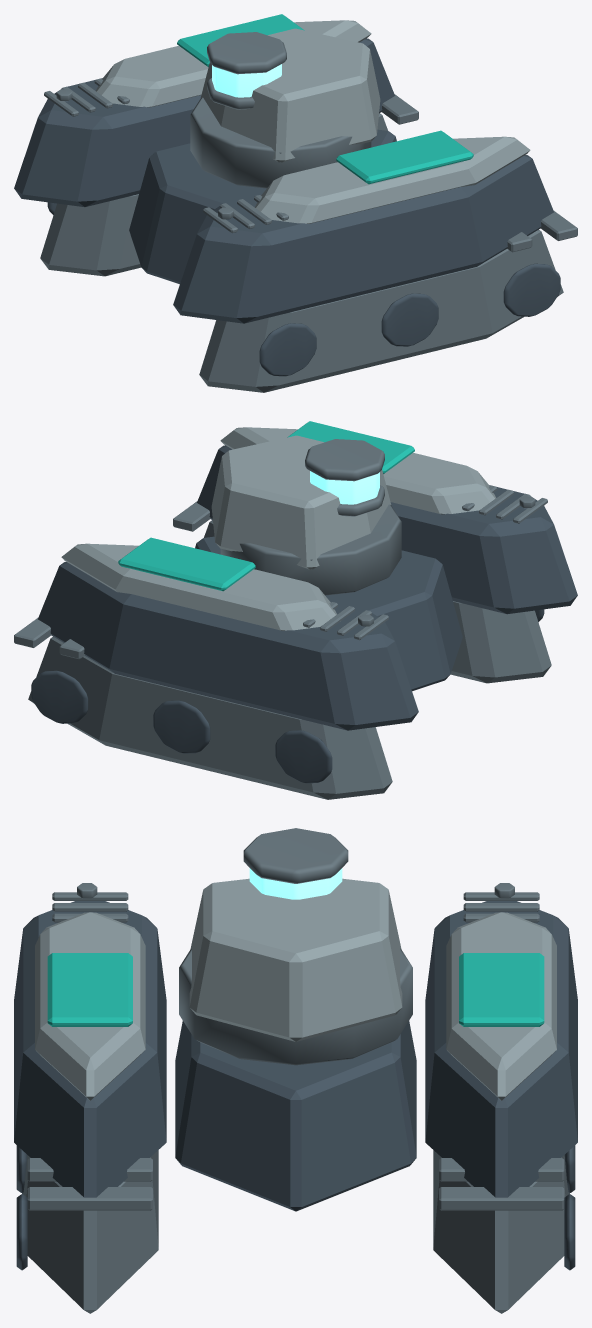
File: SM_Anvil_Body.fbx
3 renders of one model, top to bottom at view 1: azimuth 30°, elevation 25°; view 2: azimuth 150°, elevation 25°; view 3: azimuth 270°, elevation 25°, orthographic. The views are drawn at different scales.
Visible parts, largest first — view 1: SM_Anvil_Body; view 2: SM_Anvil_Body; view 3: SM_Anvil_Body.
Boxes of the visible parts, box(x1,y1,x2,y2) form: SM_Anvil_Body: box(14, 14, 577, 392); SM_Anvil_Body: box(14, 421, 577, 799); SM_Anvil_Body: box(14, 828, 577, 1313).
Bounding box in the file's own units: 60.68 × 59.69 × 38.
